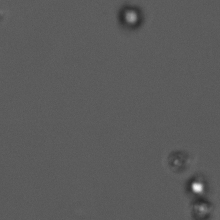Dead Cell: (166, 148, 190, 173), (188, 198, 214, 217)
Living Cell: (119, 4, 142, 29), (188, 175, 206, 195)
